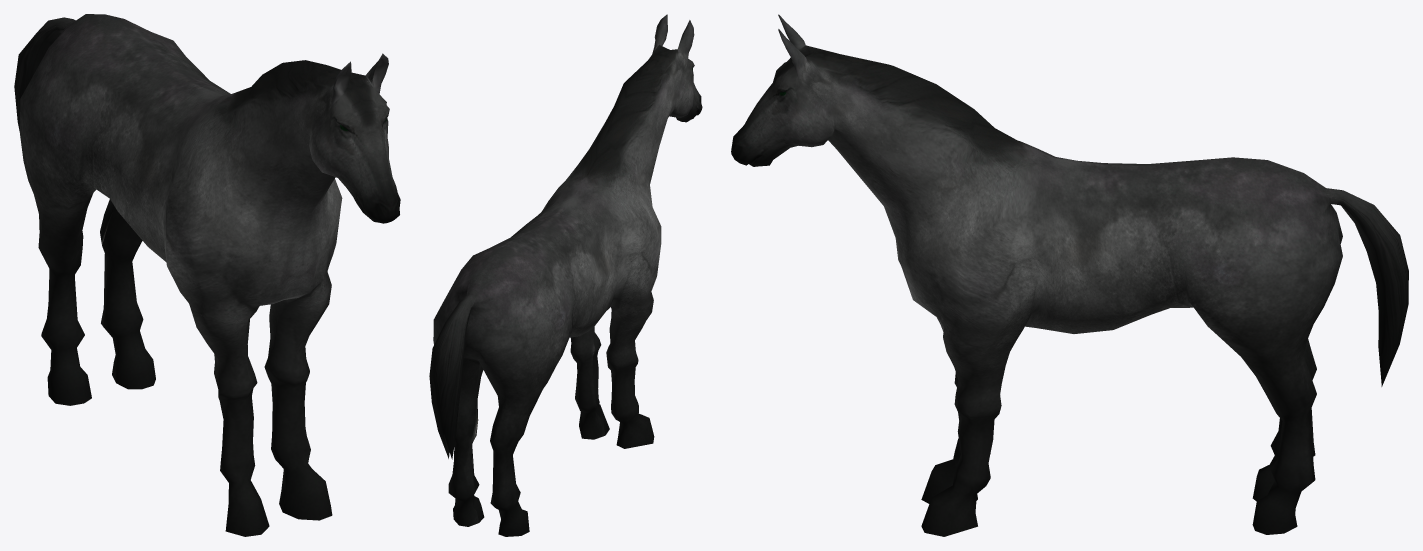
Rendered from Horse3.glb.
3 views of the same model, side by side, from view 1: azimuth 30°, elevation 25°; view 2: azimuth 150°, elevation 25°; view 3: azimuth 270°, elevation 25° (orthographic). The views are drawn at different scales.
Parts seen in each view (by area): view 1: Horse3; view 2: Horse3; view 3: Horse3.
Boxes of the visible parts, left/top/right/bottom form: Horse3: left=14, top=14, right=400, bottom=536; Horse3: left=429, top=14, right=702, bottom=536; Horse3: left=731, top=14, right=1408, bottom=536.
Bounding box in the file's own units: 0.6161 × 1.93 × 2.41.
Materials: 1 (1 with a texture image).
